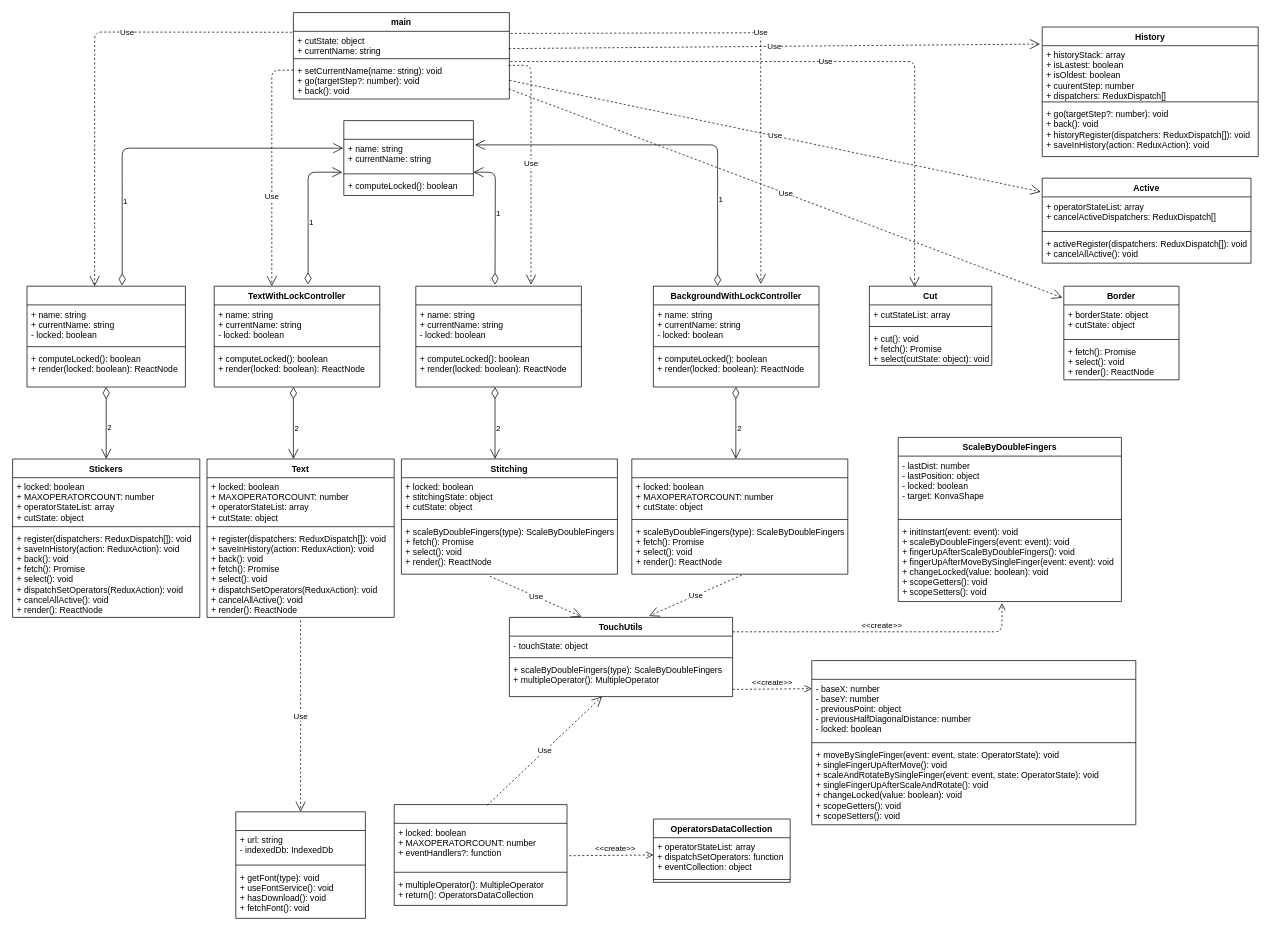
Some shapes in this 1271 by 933 pixel diagram are drawn without their labels. Here are the shapes that lost their labels. From the top down, the box of each, then its label:
(343, 120, 473, 195): LockController
(26, 285, 185, 387): StickerWithLockController
(415, 285, 581, 387): StitchingWithLockController
(631, 458, 848, 574): Background
(811, 660, 1136, 825): MultipleOperator
(235, 811, 365, 918): FontDownloadSaveService
(393, 804, 567, 905): UseOperators
